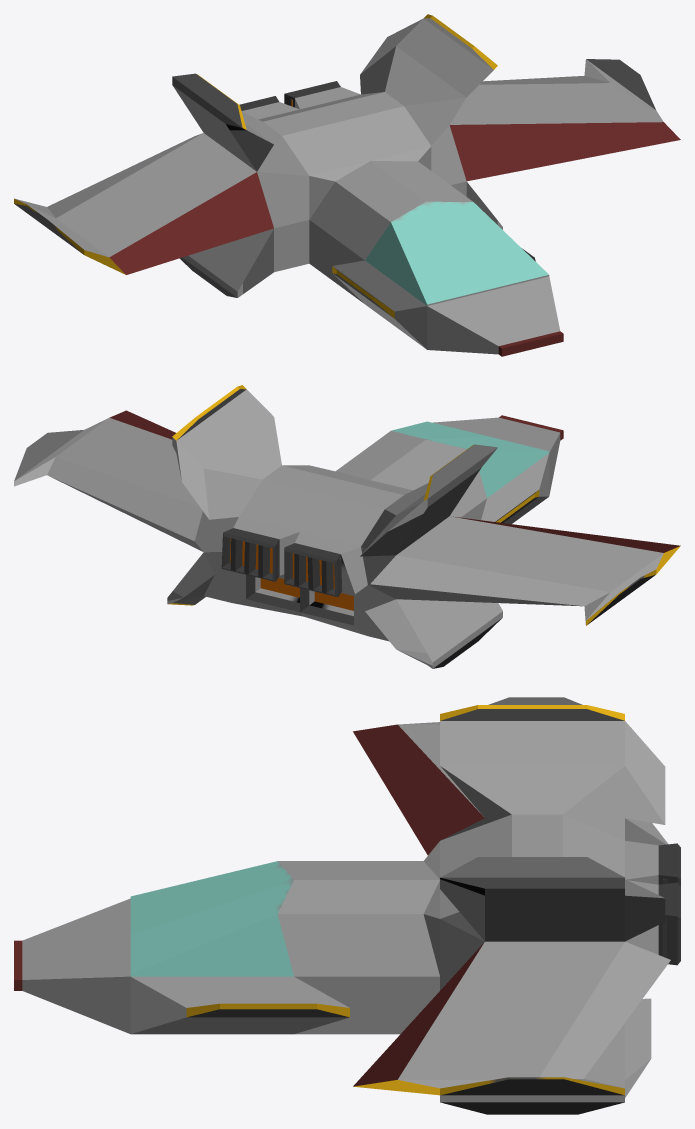
Rendered from ship6.fbx.
3 views of the same model, one above another, from view 1: azimuth 30°, elevation 25°; view 2: azimuth 150°, elevation 25°; view 3: azimuth 270°, elevation 25° (orthographic). The views are drawn at different scales.
Visible parts, largest first — view 1: Cube; view 2: Cube; view 3: Cube.
Part boxes in pixels (x1,y1,x2,y2): Cube: [14, 14, 680, 356]; Cube: [14, 385, 680, 668]; Cube: [14, 697, 680, 1114].
Bounding box in the file's own units: 138 × 42.93 × 102.
